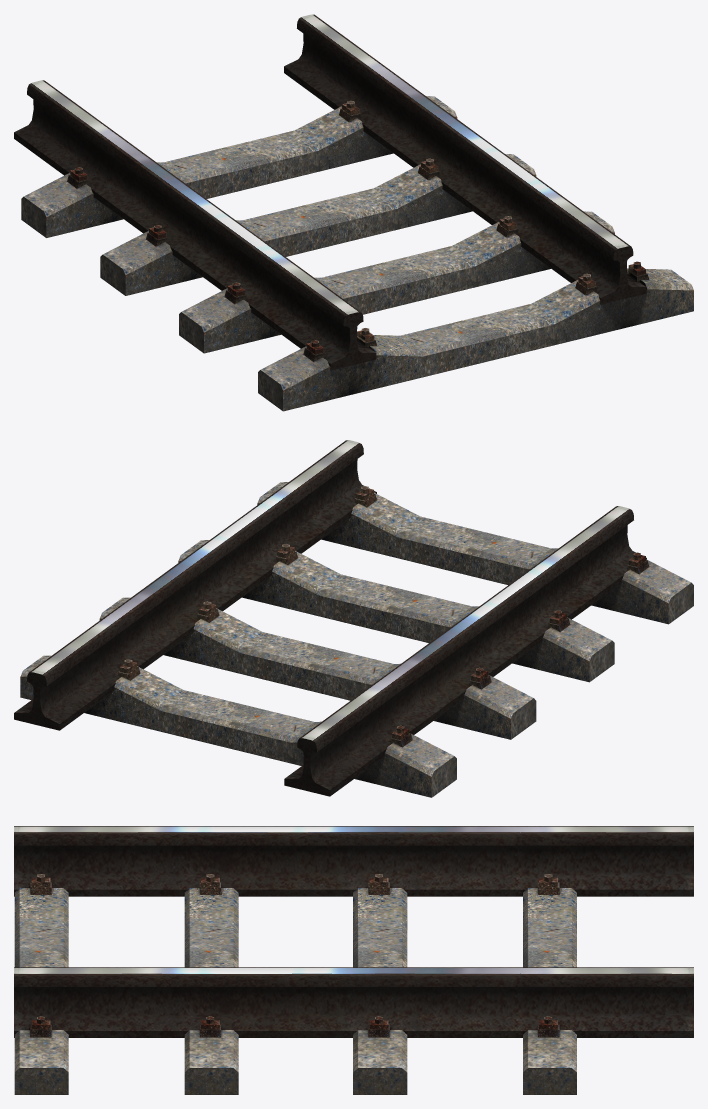
Rendered from Beton_Rail_parts.FBX.
3 renders of one model, top to bottom at view 1: azimuth 30°, elevation 25°; view 2: azimuth 150°, elevation 25°; view 3: azimuth 270°, elevation 25°, orthographic. The views are drawn at different scales.
Parts seen in each view (by area): view 1: Object008, Object011, Object009, Object010, Object002, Object007, Object012, Object013; view 2: Object002, Object007, Object010, Object009, Object008, Object011, Object012, Object013; view 3: Object007, Object011, Object012, Object013, Object010, Object008, Object009, Object002.
Boxes of the visible parts, x1,y1,x2,y2 form: Object008: [258, 261, 693, 411]; Object011: [251, 188, 646, 370]; Object009: [179, 211, 614, 353]; Object010: [100, 154, 536, 295]; Object002: [21, 96, 457, 237]; Object007: [14, 14, 394, 197]; Object012: [172, 130, 551, 308]; Object013: [94, 73, 472, 250]; Object002: [20, 655, 456, 797]; Object007: [14, 613, 410, 796]; Object010: [99, 597, 536, 739]; Object009: [178, 540, 614, 682]; Object008: [257, 482, 693, 624]; Object011: [267, 440, 646, 619]; Object012: [188, 498, 567, 676]; Object013: [110, 556, 488, 734]; Object007: [520, 826, 693, 1037]; Object011: [14, 826, 183, 1037]; Object012: [184, 826, 353, 1037]; Object013: [354, 826, 520, 1037]; Object010: [353, 874, 407, 1094]; Object008: [14, 874, 68, 1094]; Object009: [184, 874, 238, 1094]; Object002: [523, 874, 576, 1094].
Size of the model in its own units: 2.52 by 3.37 by 0.4774.
